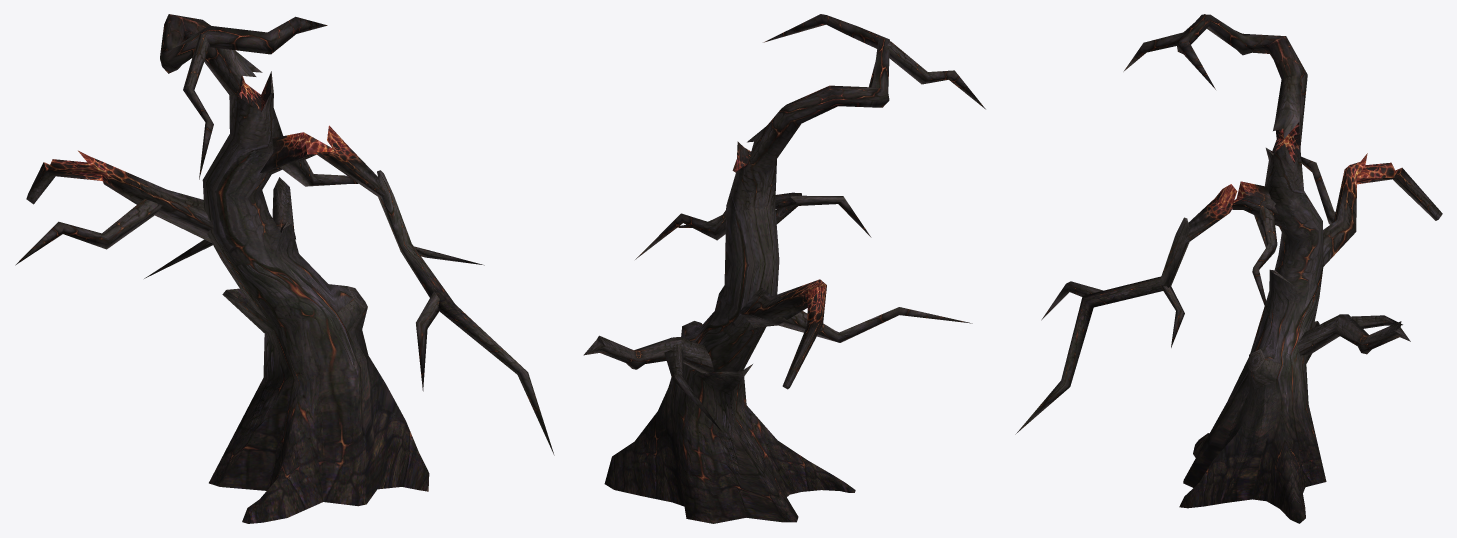
Rendered from yw_huanghunyaosai_kushu01.FBX.
3 renders of one model, left to right at view 1: azimuth 30°, elevation 25°; view 2: azimuth 150°, elevation 25°; view 3: azimuth 270°, elevation 25°, orthographic. The views are drawn at different scales.
Parts seen in each view (by area): view 1: yw_huanghunyaosai_kushu01; view 2: yw_huanghunyaosai_kushu01; view 3: yw_huanghunyaosai_kushu01.
Part boxes in pixels (<box>): yw_huanghunyaosai_kushu01: <box>15,14,554,523</box>; yw_huanghunyaosai_kushu01: <box>583,14,985,523</box>; yw_huanghunyaosai_kushu01: <box>1015,14,1442,523</box>.
Size of the model in its own units: 455 by 542 by 510.
